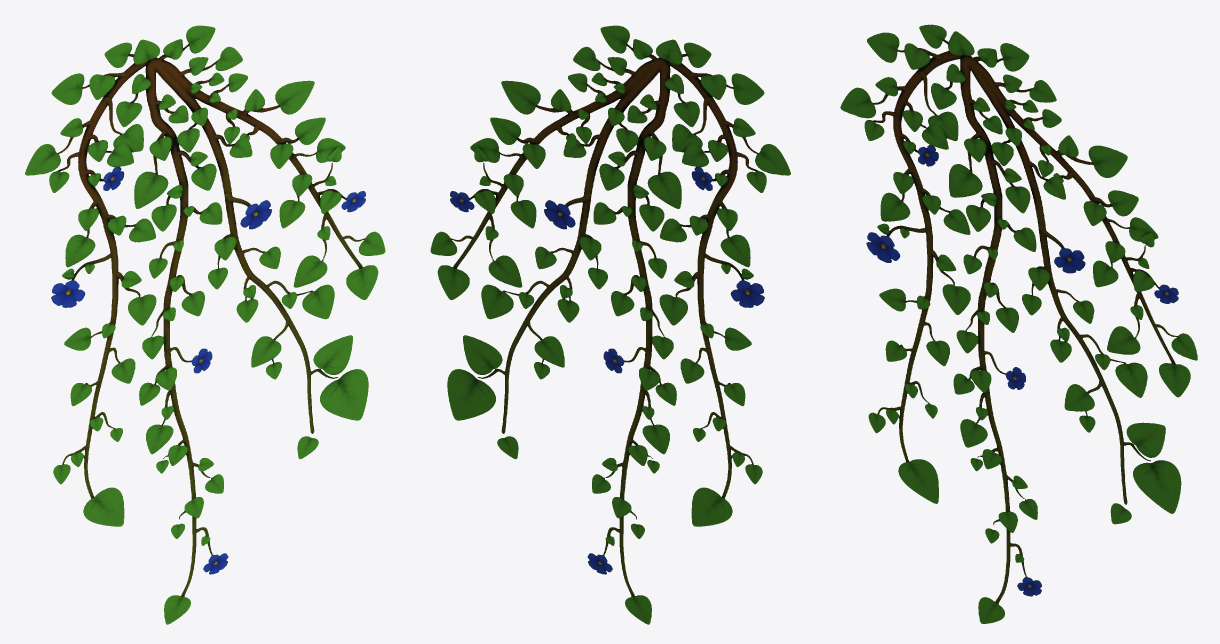
Rendered from vine2.fbx.
3 renders of one model, left to right at view 1: azimuth 30°, elevation 25°; view 2: azimuth 150°, elevation 25°; view 3: azimuth 330°, elevation 25°, orthographic.
Visible parts, largest first — view 1: vines.002; view 2: vines.002; view 3: vines.002.
Part boxes in pixels (bbox=[...]): vines.002: bbox=[25, 25, 385, 624]; vines.002: bbox=[430, 25, 790, 624]; vines.002: bbox=[840, 24, 1197, 623].
Size of the model in its own units: 36.47 by 56.86 by 4.29e-06.
1 material, 1 textured.
